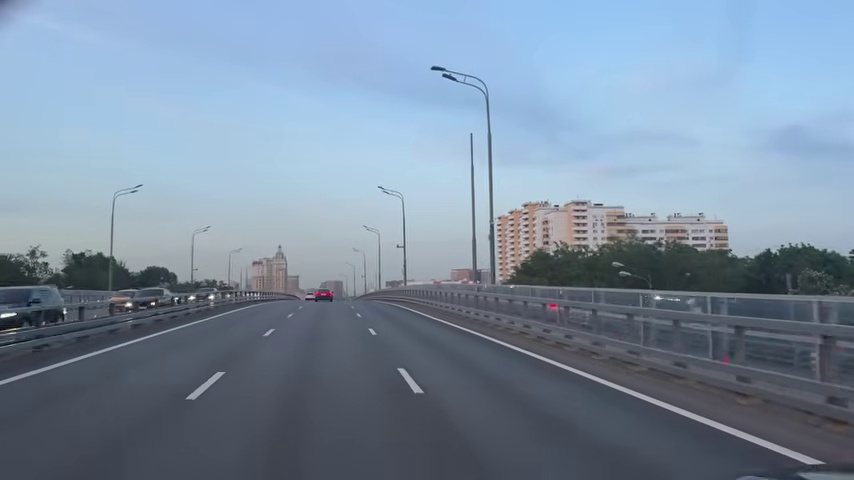apagada: (427, 61, 456, 85), (125, 181, 144, 198), (374, 183, 393, 199), (198, 222, 212, 235)
